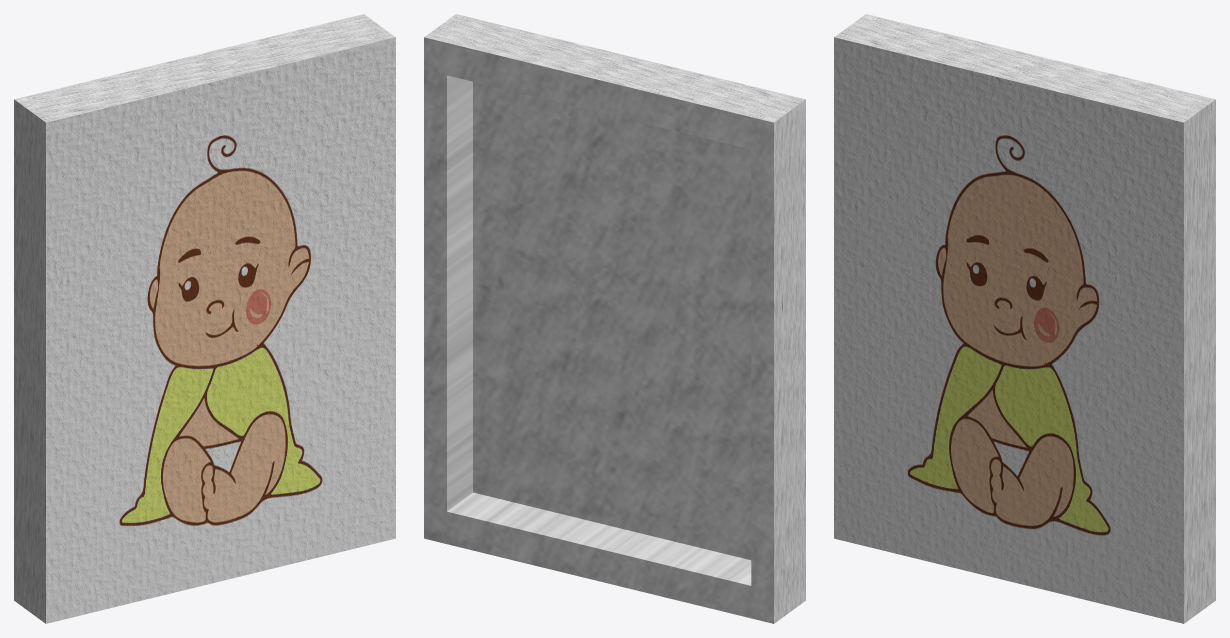
Rendered from Painting 4.fbx.
3 renders of one model, left to right at view 1: azimuth 30°, elevation 25°; view 2: azimuth 150°, elevation 25°; view 3: azimuth 330°, elevation 25°, orthographic.
Parts seen in each view (by area): view 1: Cube.005; view 2: Cube.005; view 3: Cube.005.
Part boxes in pixels (bbox=[...]): Cube.005: bbox=[14, 14, 395, 623]; Cube.005: bbox=[424, 14, 805, 623]; Cube.005: bbox=[834, 14, 1215, 623].
Size of the model in its own units: 0.7093 by 0.9713 by 0.1118.
